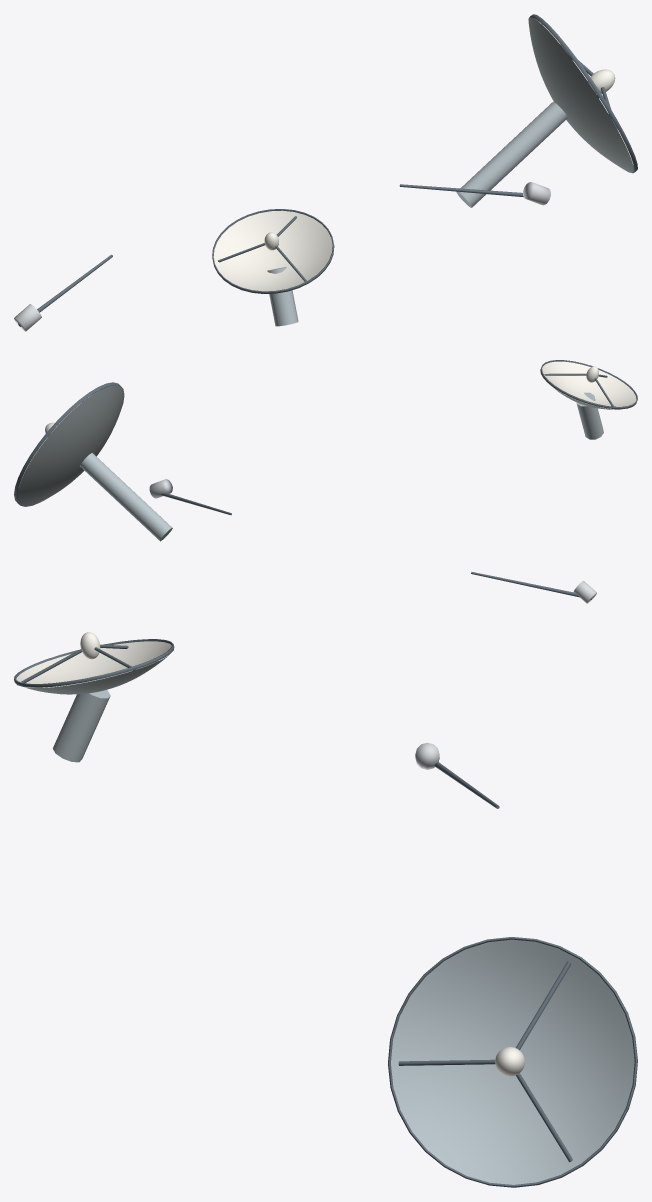
File: eagle_antennas.glb
3 views of the same model, one above another, from view 1: azimuth 30°, elevation 25°; view 2: azimuth 150°, elevation 25°; view 3: azimuth 270°, elevation 25° (orthographic). The views are drawn at different scales.
Parts seen in each view (by area): view 1: eagle_antennas.rendezvous_radar.reflector.mesh, eagle_antennas.s_band.reflector.mesh, eagle_antennas.s_band.mesh, eagle_antennas.vhf_02.mesh, eagle_antennas.rendezvous_radar.mesh, eagle_antennas.vhf_01.mesh; view 2: eagle_antennas.s_band.reflector.mesh, eagle_antennas.rendezvous_radar.reflector.mesh, eagle_antennas.s_band.mesh, eagle_antennas.rendezvous_radar.mesh, eagle_antennas.vhf_01.mesh, eagle_antennas.vhf_02.mesh; view 3: eagle_antennas.s_band.reflector.mesh, eagle_antennas.rendezvous_radar.reflector.mesh, eagle_antennas.rendezvous_radar.mesh, eagle_antennas.vhf_01.mesh.
Part boxes in pixels (box(x1,y1,x2,y2)): eagle_antennas.rendezvous_radar.reflector.mesh: box(212, 209, 334, 293); eagle_antennas.s_band.reflector.mesh: box(528, 14, 637, 173); eagle_antennas.s_band.mesh: box(456, 101, 567, 207); eagle_antennas.vhf_02.mesh: box(399, 182, 550, 205); eagle_antennas.rendezvous_radar.mesh: box(267, 267, 298, 326); eagle_antennas.vhf_01.mesh: box(14, 254, 112, 331); eagle_antennas.s_band.reflector.mesh: box(14, 382, 124, 506); eagle_antennas.rendezvous_radar.reflector.mesh: box(540, 360, 637, 409); eagle_antennas.s_band.mesh: box(80, 453, 172, 541); eagle_antennas.rendezvous_radar.mesh: box(576, 392, 603, 439); eagle_antennas.vhf_01.mesh: box(471, 572, 596, 603); eagle_antennas.vhf_02.mesh: box(149, 479, 231, 515); eagle_antennas.s_band.reflector.mesh: box(388, 937, 637, 1187); eagle_antennas.rendezvous_radar.reflector.mesh: box(14, 632, 174, 694); eagle_antennas.rendezvous_radar.mesh: box(53, 682, 110, 762); eagle_antennas.vhf_01.mesh: box(415, 742, 499, 808).
Size of the model in its own units: 3.76 by 1.01 by 2.39.
